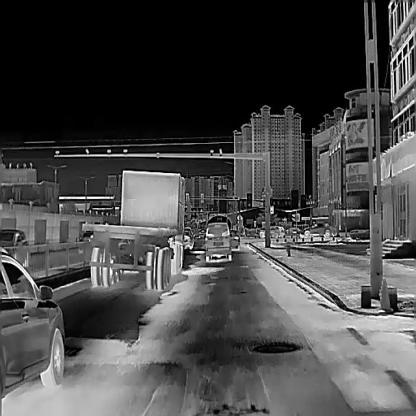car: (82, 169, 191, 289), (0, 250, 64, 398), (0, 229, 29, 267), (205, 222, 231, 261), (299, 223, 336, 237), (260, 225, 284, 238), (183, 227, 193, 250), (229, 229, 239, 250)
